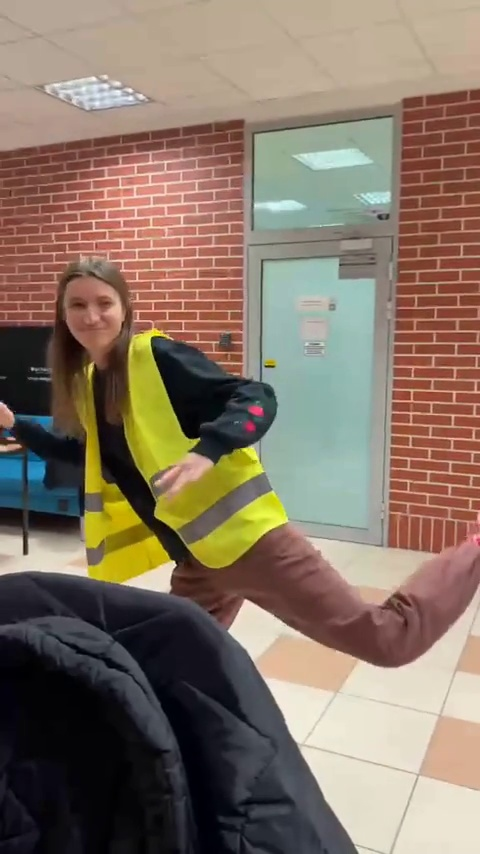vest: (63, 256, 408, 674)
